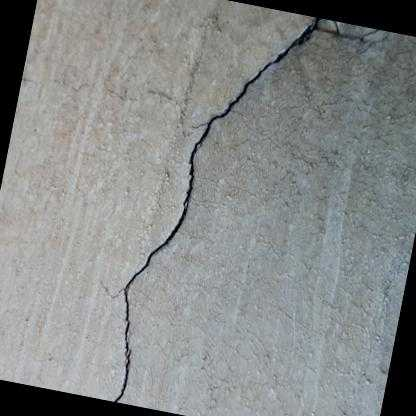crack: (115, 18, 320, 402)
